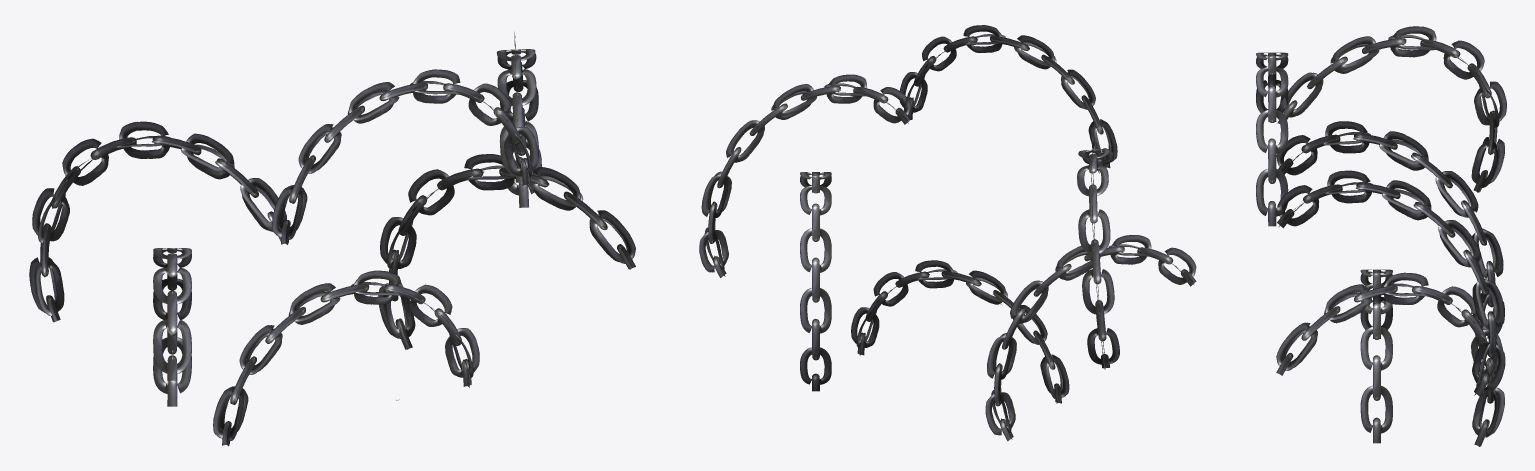
The model's file is E29_shuolian_FD.fbx.
The picture shows the model from 3 angles, left to right: view 1: azimuth 30°, elevation 25°; view 2: azimuth 150°, elevation 25°; view 3: azimuth 270°, elevation 25°; orthographic projection. The views are drawn at different scales.
Visible parts, largest first — view 1: banhuan (4), banhuan (2), banhuan (6), banhuan (3), banhuan (1), banhuan (5); view 2: banhuan (5), banhuan (1), banhuan (6), banhuan (3), banhuan (4), banhuan (2); view 3: banhuan (5), banhuan (4), banhuan (2), banhuan (1), banhuan (3), banhuan (6).
Part boxes in pixels (left/top/right/bottom): banhuan (4): left=29, top=121, right=286, bottom=322; banhuan (2): left=378, top=154, right=635, bottom=349; banhuan (6): left=213, top=270, right=479, bottom=446; banhuan (3): left=272, top=69, right=538, bottom=244; banhuan (1): left=153, top=248, right=191, bottom=406; banhuan (5): left=496, top=32, right=541, bottom=207; banhuan (5): left=699, top=74, right=910, bottom=277; banhuan (1): left=985, top=235, right=1196, bottom=441; banhuan (6): left=851, top=260, right=1069, bottom=403; banhuan (3): left=899, top=25, right=1117, bottom=168; banhuan (4): left=1077, top=135, right=1119, bottom=369; banhuan (2): left=800, top=172, right=831, bottom=391; banhuan (5): left=1277, top=170, right=1505, bottom=396; banhuan (4): left=1277, top=26, right=1506, bottom=192; banhuan (2): left=1276, top=272, right=1504, bottom=446; banhuan (1): left=1276, top=121, right=1504, bottom=338; banhuan (3): left=1256, top=52, right=1288, bottom=226; banhuan (6): left=1360, top=269, right=1392, bottom=443.
Bounding box in the file's own units: 1.27 × 0.9563 × 0.6499.
